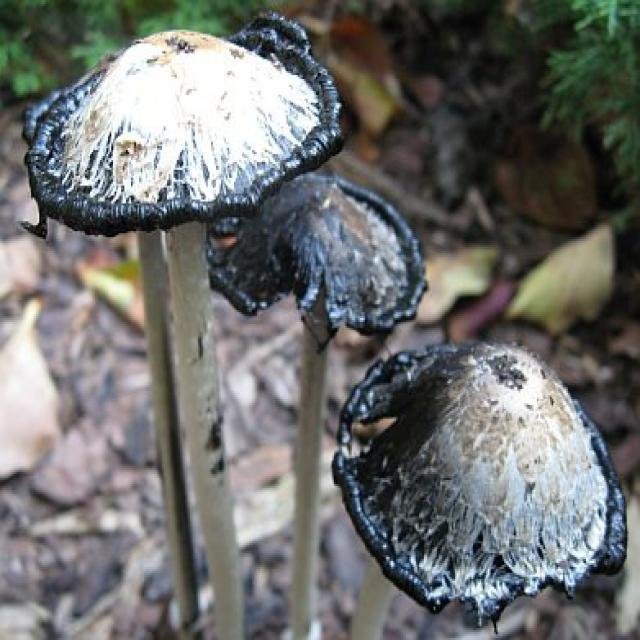Coprinus comatus: (23, 26, 345, 635), (211, 174, 422, 639), (333, 339, 623, 610)
